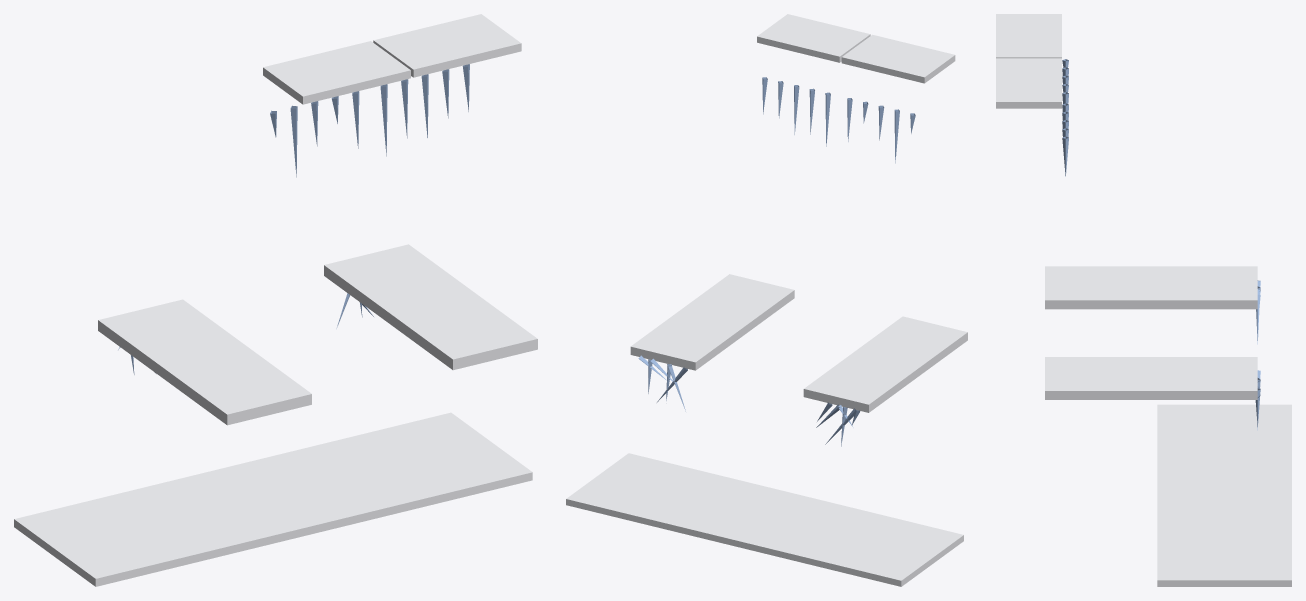
Rendered from ThroneFrost.obj.
3 views of the same model, side by side, from view 1: azimuth 30°, elevation 25°; view 2: azimuth 150°, elevation 25°; view 3: azimuth 270°, elevation 25° (orthographic). The views are drawn at different scales.
Visible parts, largest first — view 1: ThroneFrost; view 2: ThroneFrost; view 3: ThroneFrost.
Boxes of the visible parts, bbox=[...] form: ThroneFrost: bbox=[14, 14, 537, 586]; ThroneFrost: bbox=[566, 14, 967, 586]; ThroneFrost: bbox=[996, 14, 1291, 586].
Size of the model in its own units: 1.7 by 1.99 by 1.21.
1 material, 1 textured.
